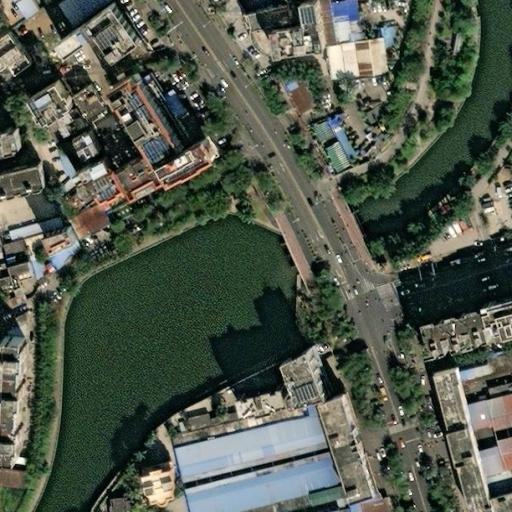building: (170, 414, 320, 482), (182, 456, 332, 512), (441, 376, 498, 512), (126, 83, 199, 173), (314, 403, 370, 509), (466, 389, 503, 483), (419, 305, 489, 354), (128, 159, 180, 209), (76, 158, 125, 211), (172, 147, 227, 191), (165, 418, 242, 447), (63, 74, 107, 122), (15, 234, 56, 285), (24, 83, 67, 131), (279, 347, 318, 396), (232, 384, 282, 416), (271, 74, 308, 115), (0, 214, 58, 240), (51, 0, 105, 27), (480, 294, 512, 339), (62, 203, 100, 239), (44, 143, 73, 190), (353, 39, 386, 80), (0, 38, 33, 78), (251, 8, 300, 34), (323, 46, 358, 81), (86, 102, 121, 136), (136, 462, 169, 498), (0, 162, 34, 196), (76, 134, 106, 167), (315, 140, 345, 173), (318, 11, 342, 50), (302, 121, 332, 151), (292, 36, 325, 63), (36, 226, 66, 251), (254, 29, 279, 57), (4, 263, 28, 290), (338, 18, 362, 45), (303, 487, 335, 505), (180, 413, 207, 431), (0, 470, 23, 489), (464, 365, 492, 379), (103, 497, 127, 512), (443, 32, 456, 57), (151, 442, 169, 459), (127, 501, 151, 512), (0, 127, 12, 148), (170, 419, 183, 434), (337, 11, 344, 18), (0, 276, 4, 288)
